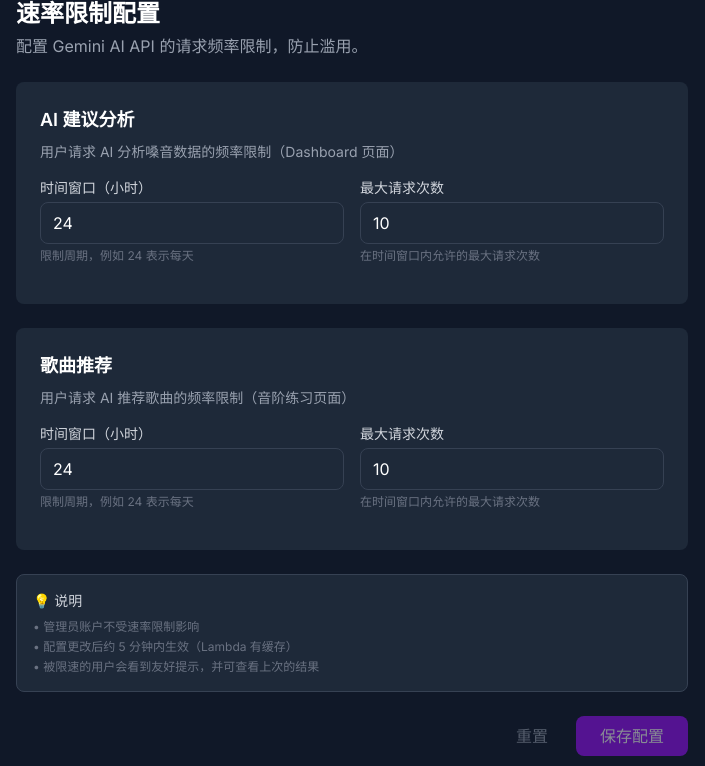
Test: RateLimitConfigPage 组件测试 › 交互功能 › 只写变化字段，部分失败后核对实际值并保留失败编辑供重试
Replace the text in the number field labelled "时间窗口（小时）" below "用户请求 AI 分析嗓音数据的频率限制（Dashboard 页面）" with "48": point(192, 223) left=40, top=202, right=344, bottom=244
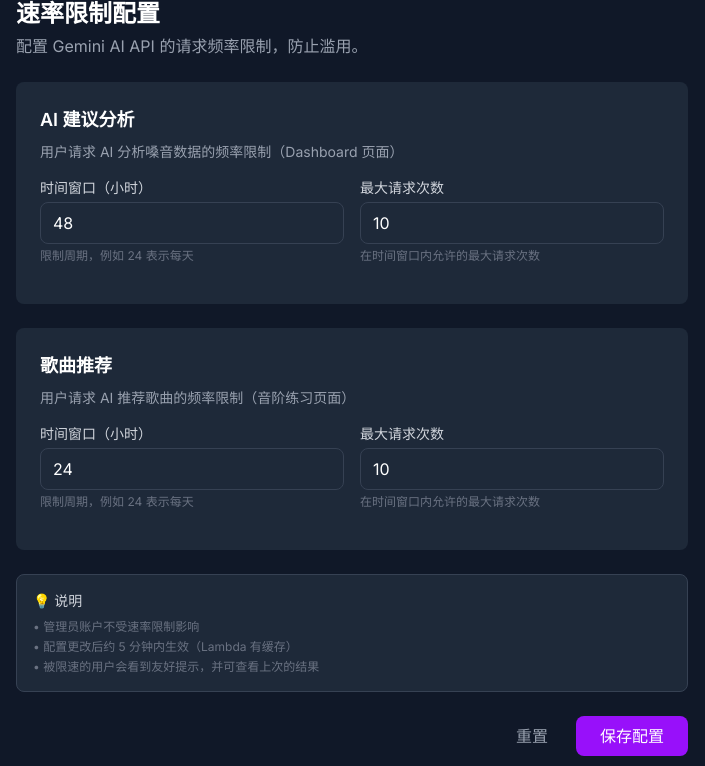
Replace the text in the number field labelled "最大请求次数" below "用户请求 AI 分析嗓音数据的频率限制（Dashboard 页面）" with "20": point(512, 223) left=360, top=202, right=664, bottom=244
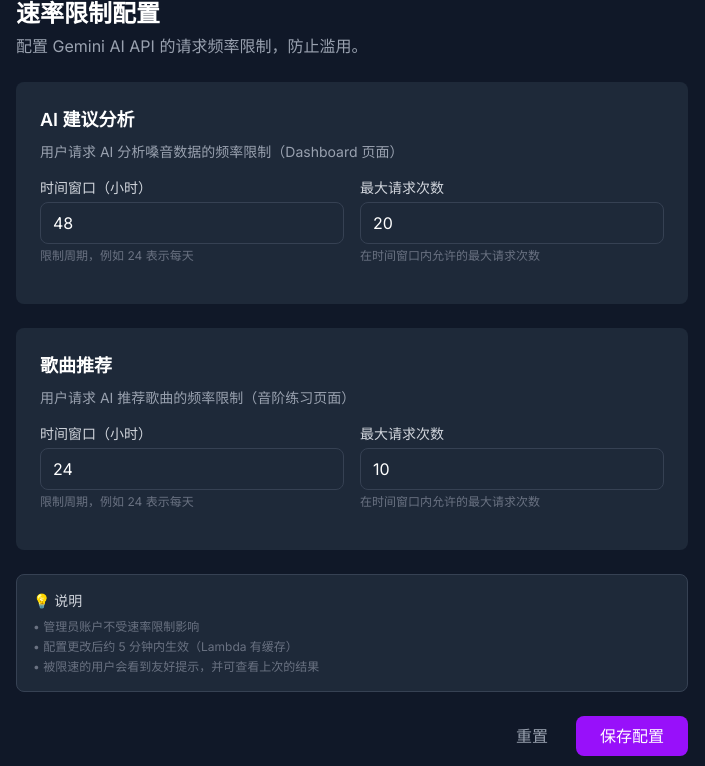
Click the button "保存配置": point(632, 736) left=576, top=716, right=688, bottom=756
(page scrolled)
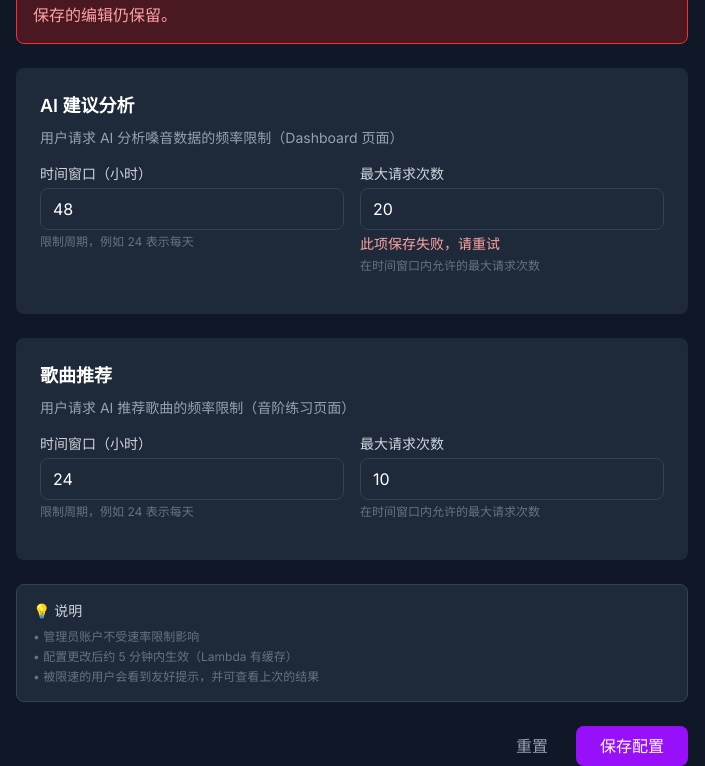
Check: the text "此项保存失败，请重试" is shown, box left=360, top=235, right=500, bottom=252
Click the button "保存配置": point(632, 746) left=576, top=726, right=688, bottom=765
(page scrolled)
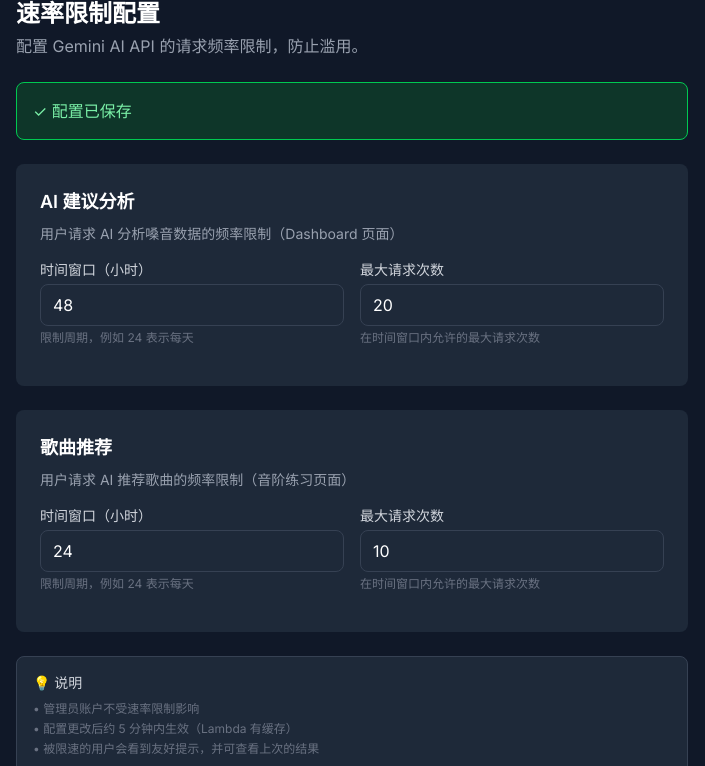
Check: the text "✓ 配置已保存" is shown, box left=33, top=101, right=132, bottom=121
